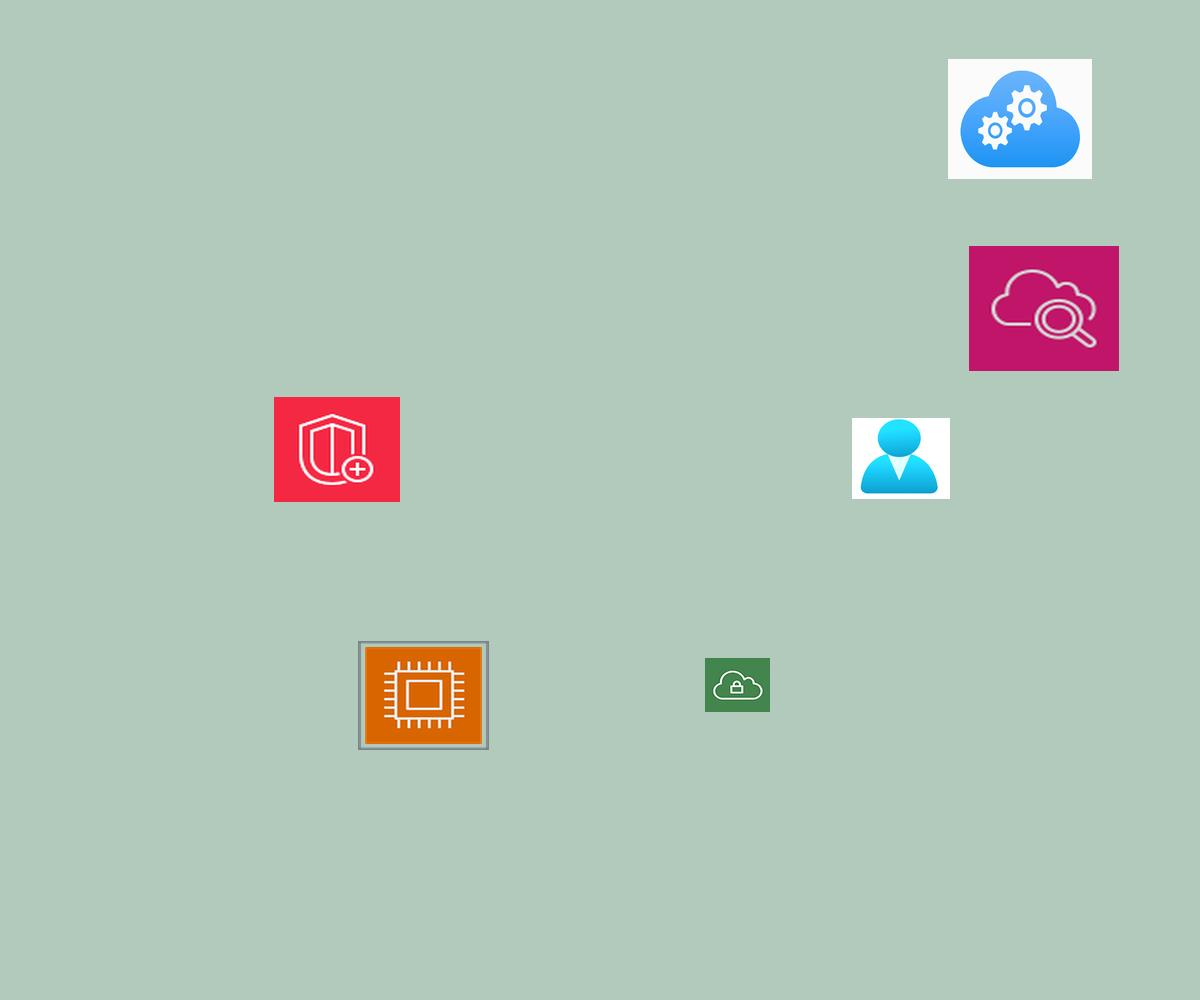AWS-Category_Compute: (358, 641, 489, 750)
AWS-CloudWatch: (969, 246, 1119, 371)
AWS-Private_vpc: (705, 658, 770, 712)
AWS-Shield: (274, 397, 400, 502)
Azure_cloud_services: (948, 59, 1092, 179)
Azure_users: (852, 418, 950, 499)
